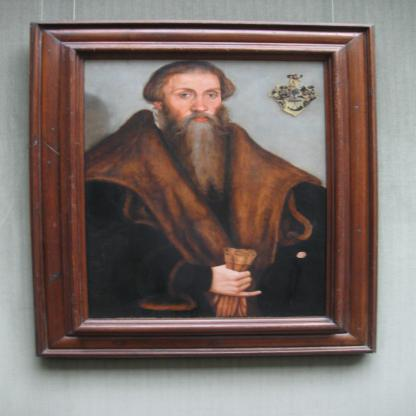Picture-frame: (32, 25, 376, 356)
